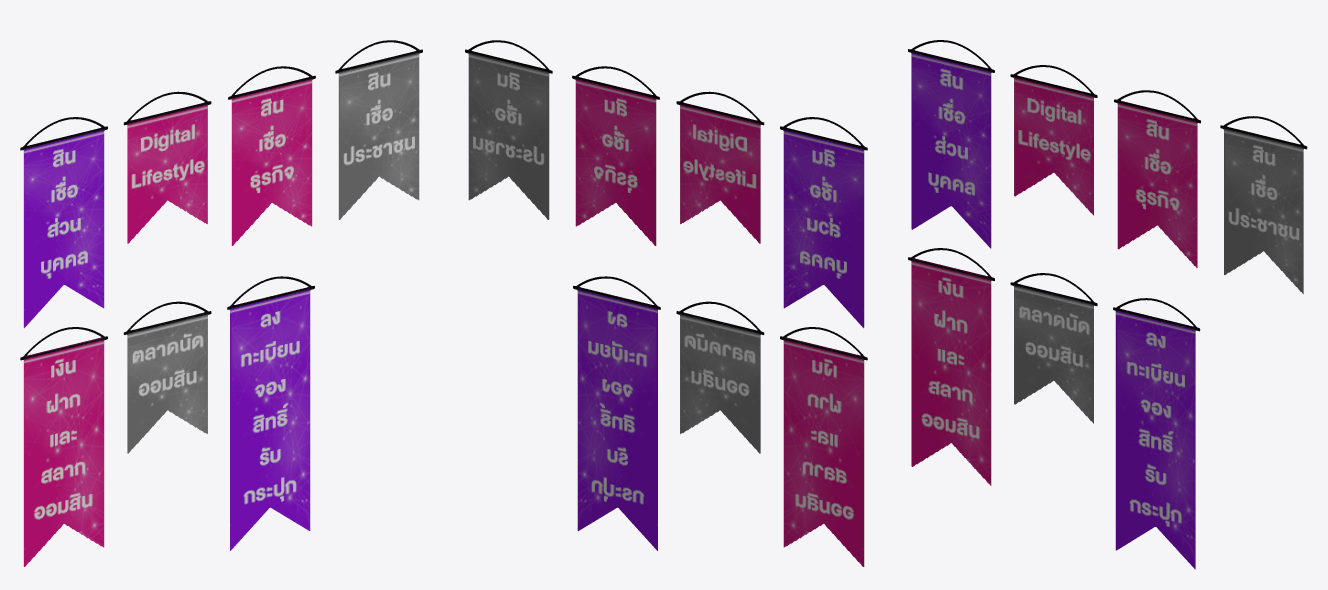
The model's file is JFlag.fbx.
3 renders of one model, left to right at view 1: azimuth 30°, elevation 25°; view 2: azimuth 150°, elevation 25°; view 3: azimuth 330°, elevation 25°, orthographic.
Parts seen in each view (by area): view 1: Reserve, Saving, Person, Crowd, Business, Market, Digital; view 2: Reserve, Saving, Person, Crowd, Business, Market, Digital; view 3: Reserve, Saving, Person, Business, Crowd, Market, Digital.
Boxes of the visible parts, bbox=[...] form: Reserve: bbox=[227, 276, 314, 551]; Saving: bbox=[20, 327, 107, 566]; Person: bbox=[20, 117, 107, 328]; Crowd: bbox=[335, 40, 422, 219]; Business: bbox=[228, 66, 315, 245]; Market: bbox=[123, 301, 211, 453]; Digital: bbox=[123, 91, 211, 243]; Reserve: bbox=[573, 276, 660, 551]; Saving: bbox=[780, 327, 867, 566]; Person: bbox=[780, 117, 867, 328]; Crowd: bbox=[465, 40, 552, 219]; Business: bbox=[572, 66, 659, 245]; Market: bbox=[676, 301, 764, 453]; Digital: bbox=[676, 91, 764, 243]; Reserve: bbox=[1113, 298, 1200, 569]; Saving: bbox=[908, 248, 994, 485]; Person: bbox=[908, 40, 994, 248]; Business: bbox=[1114, 90, 1200, 267]; Crowd: bbox=[1220, 116, 1307, 294]; Market: bbox=[1010, 273, 1097, 423]; Digital: bbox=[1010, 65, 1097, 215].
Bounding box in the file's own units: 26.97 × 30.43 × 0.
1 material, 1 textured.
